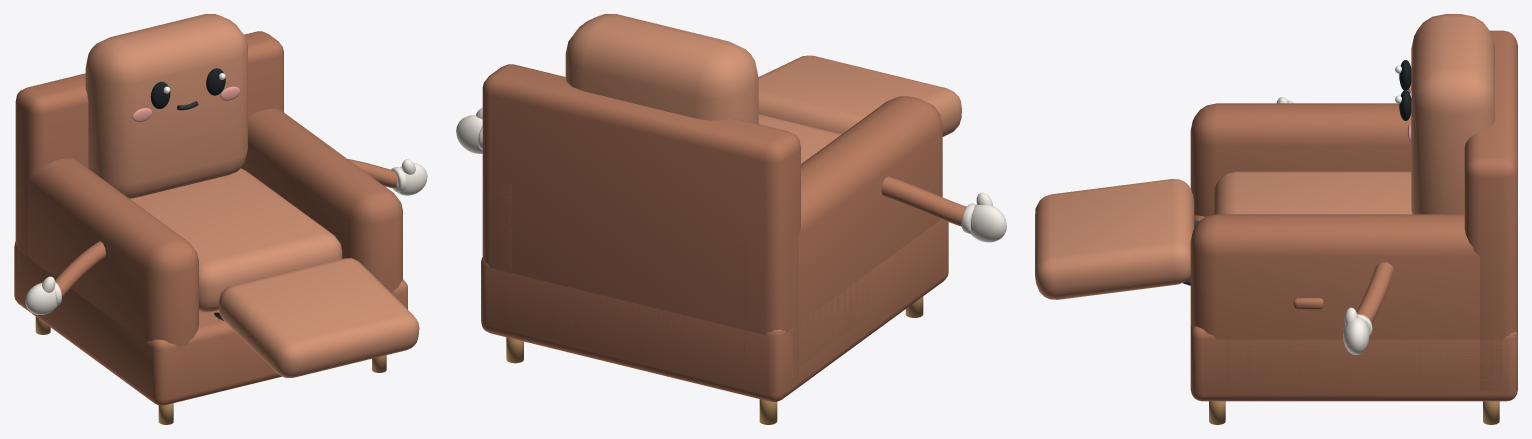
Rendered from armchair-recliner.glb.
3 views of the same model, side by side, from view 1: azimuth 30°, elevation 25°; view 2: azimuth 150°, elevation 25°; view 3: azimuth 270°, elevation 25° (orthographic). The views are drawn at different scales.
Visible parts, largest first — view 1: Upholstery.004, Arm_L.004, Arm_R.004, Legs.004, Sphere.040, Sphere.043; view 2: Upholstery.004, Arm_L.004, Legs.004, Arm_R.004; view 3: Upholstery.004, Arm_R.004, Legs.004.
Part boxes in pixels (box(x1,y1,x2,y2)): Upholstery.004: box(14, 14, 419, 405); Arm_L.004: box(25, 241, 105, 314); Arm_R.004: box(348, 159, 427, 195); Legs.004: box(35, 312, 386, 424); Sphere.040: box(150, 81, 170, 108); Sphere.043: box(206, 68, 225, 95); Upholstery.004: box(481, 14, 961, 401); Arm_L.004: box(881, 176, 1006, 242); Legs.004: box(506, 296, 923, 424); Arm_R.004: box(456, 107, 482, 153); Upholstery.004: box(1035, 14, 1517, 401); Arm_R.004: box(1343, 262, 1393, 354); Legs.004: box(1182, 220, 1499, 424).
Bounding box in the file's own units: 1.46 × 0.93 × 1.27.
